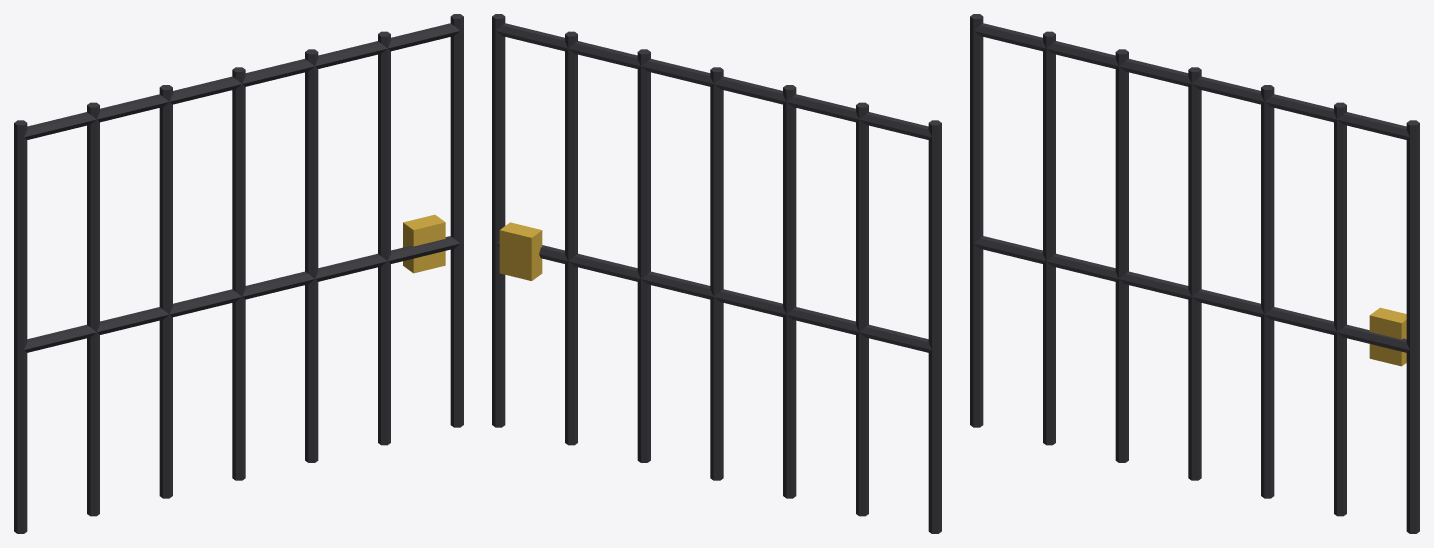
File: circus_cage_door.glb
3 views of the same model, side by side, from view 1: azimuth 30°, elevation 25°; view 2: azimuth 150°, elevation 25°; view 3: azimuth 330°, elevation 25° (orthographic).
Parts seen in each view (by area): view 1: bars_cage_iron, lock_cage_gold; view 2: bars_cage_iron, lock_cage_gold; view 3: bars_cage_iron, lock_cage_gold.
Part boxes in pixels (box(x1,y1,x2,y2)): bars_cage_iron: box(14, 14, 463, 533); lock_cage_gold: box(403, 214, 445, 273); bars_cage_iron: box(492, 14, 941, 533); lock_cage_gold: box(499, 222, 542, 280); bars_cage_iron: box(970, 14, 1419, 533); lock_cage_gold: box(1369, 307, 1406, 366).
Size of the model in its own units: 1.94 by 1.7 by 0.105.
